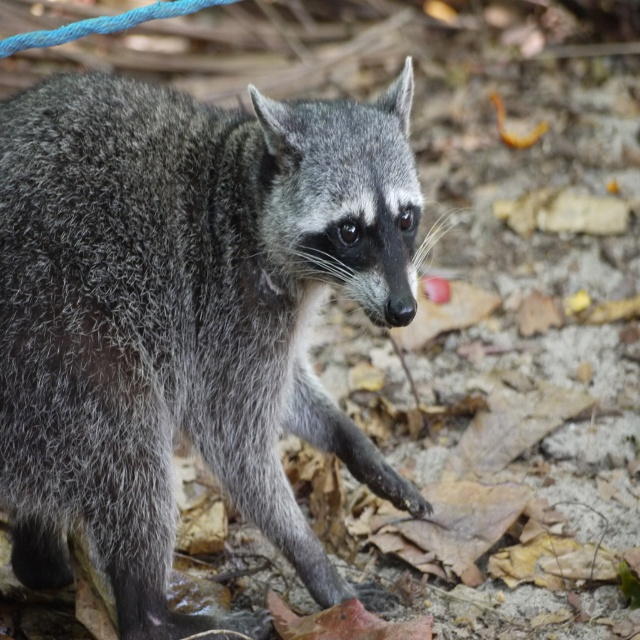Raccoon: (0, 52, 470, 639), (0, 55, 470, 639)
